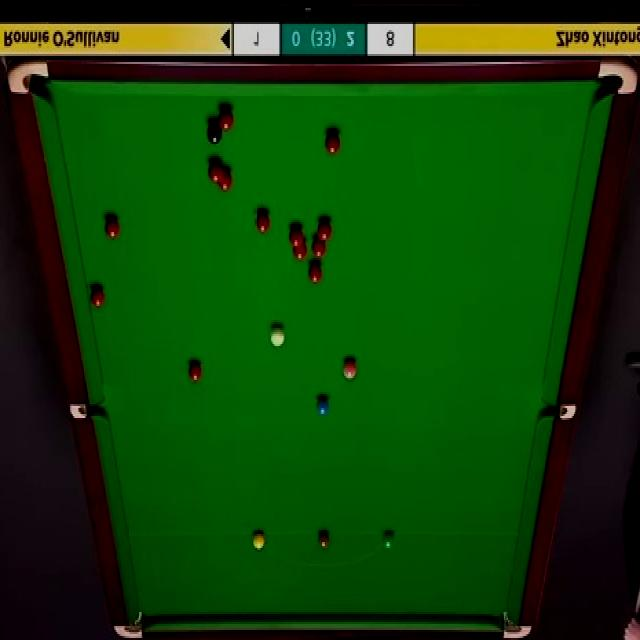black-ball: (207, 120, 222, 145)
blue-ball: (316, 394, 331, 419)
brown-ball: (317, 529, 331, 549)
green-ball: (380, 528, 394, 550)
pink-ball: (341, 356, 360, 384)
red-ball: (217, 104, 235, 132), (103, 214, 120, 242), (206, 158, 225, 183), (88, 284, 105, 310), (256, 208, 272, 232), (325, 130, 340, 155), (188, 361, 204, 384), (288, 224, 304, 247), (308, 260, 323, 284), (291, 240, 308, 261), (218, 170, 234, 192), (317, 220, 332, 242), (311, 238, 327, 258)
white-ball: (269, 322, 285, 349)
yellow-ball: (252, 530, 266, 550)
